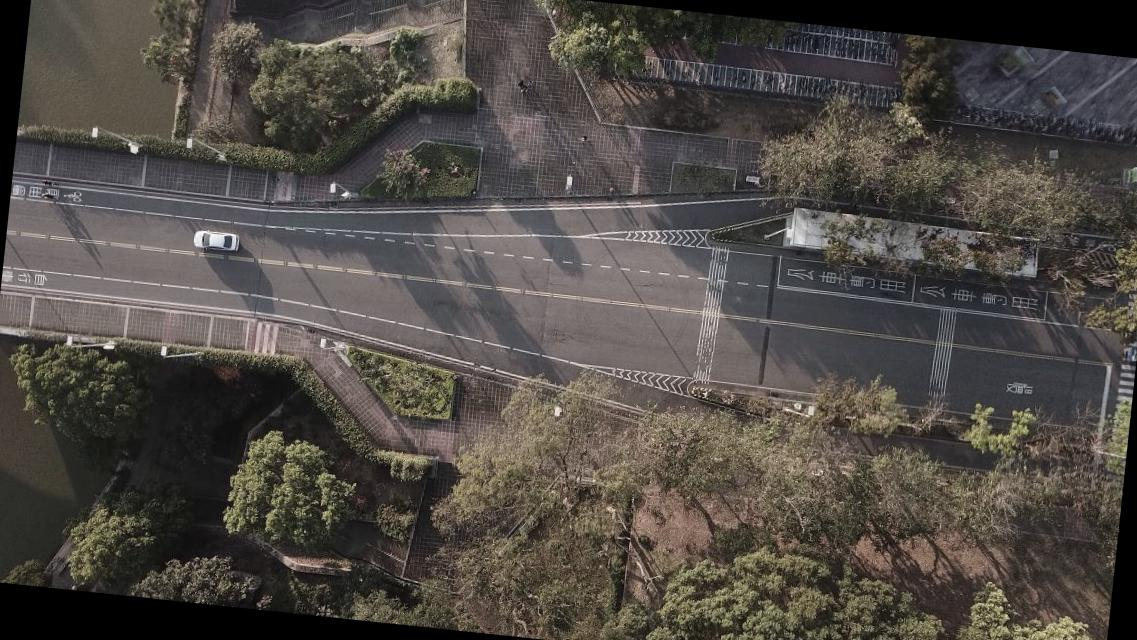vehicle: (192, 227, 240, 253)
